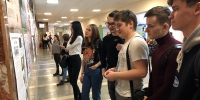students: (104, 9, 148, 98), (145, 6, 182, 99), (166, 1, 198, 99), (80, 23, 102, 99), (103, 10, 121, 98), (65, 20, 83, 98), (56, 32, 71, 85), (51, 33, 60, 75)
